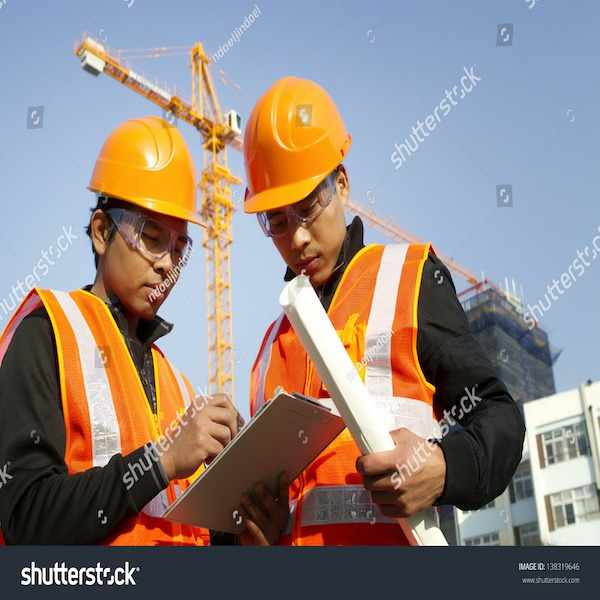helmet: (236, 73, 355, 217), (85, 123, 209, 227)
vest: (259, 240, 436, 518), (40, 283, 212, 557)
